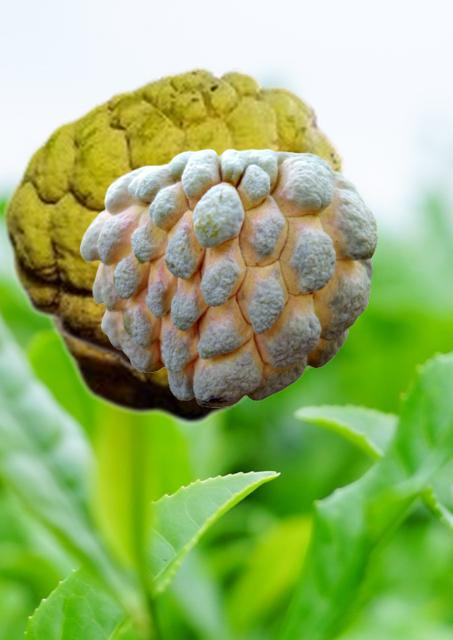atis: (0, 65, 346, 370), (80, 148, 376, 406), (44, 308, 367, 424)
